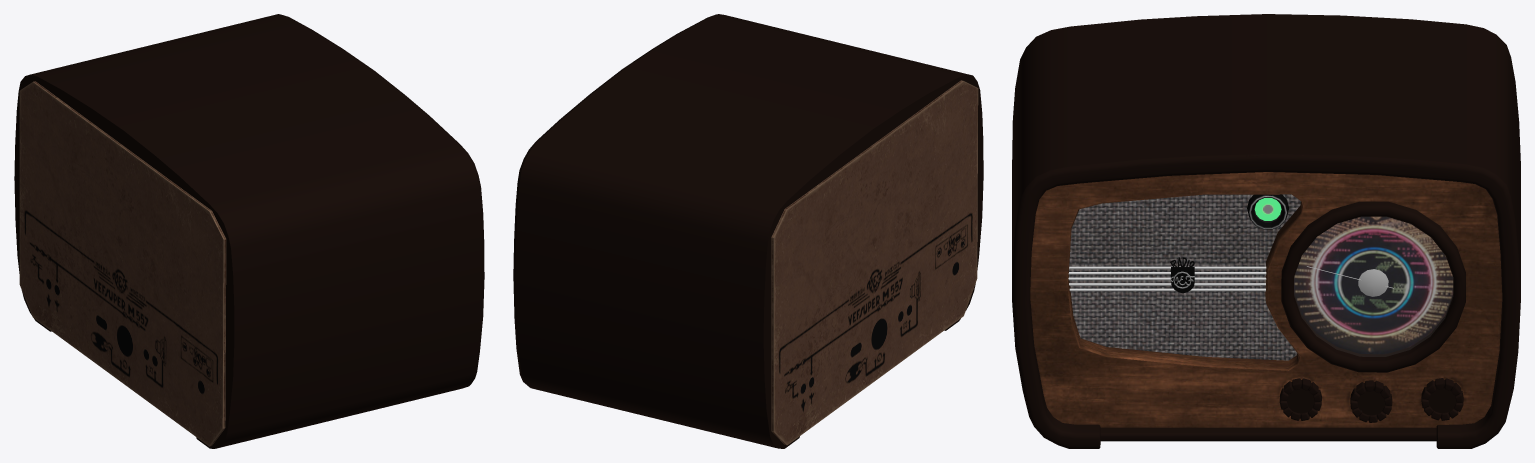
Rendered from vef_m557_radio.glb.
3 renders of one model, left to right at view 1: azimuth 30°, elevation 25°; view 2: azimuth 150°, elevation 25°; view 3: azimuth 270°, elevation 25°, orthographic. The views are drawn at different scales.
Visible parts, largest first — view 1: g; view 2: g; view 3: g.
Boxes of the visible parts, x1,y1,x2,y2 form: g: [14, 14, 484, 448]; g: [513, 14, 983, 448]; g: [1012, 14, 1520, 448].
Bounding box in the file's own units: 1.34 × 1.28 × 2.
Materials: 2 (2 with a texture image).
